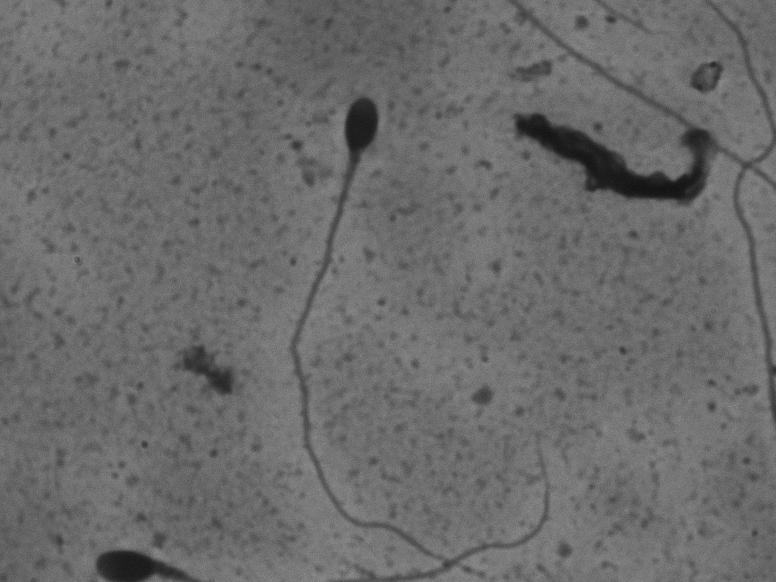Normal: (271, 91, 512, 565)
